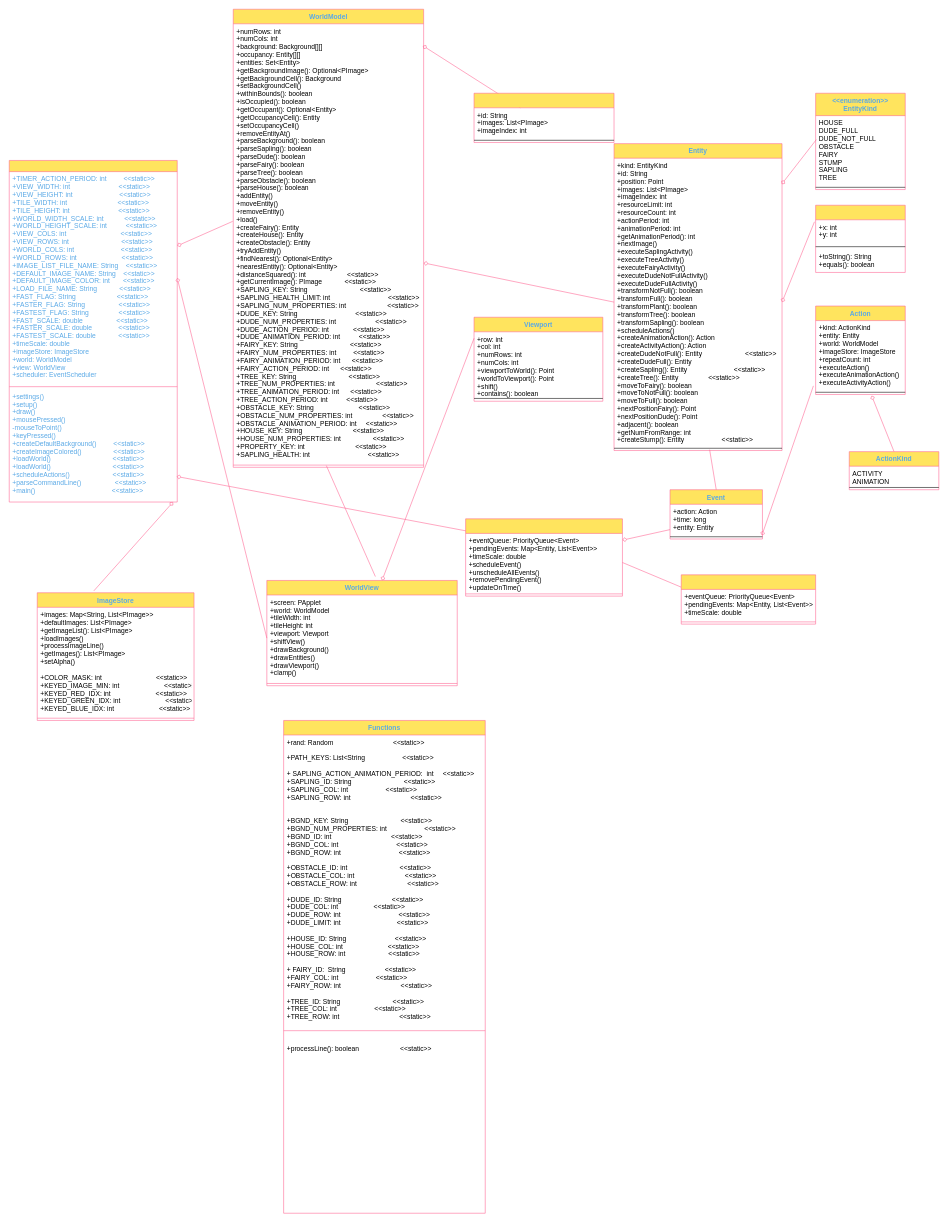
Image size: 948x1222. Some labels were removed from this diagram. Here are the shapes that lost their labels. From the top down, the box of each, then its label:
(473, 93, 614, 143): Background
(815, 205, 905, 272): Point
(9, 160, 177, 502): VirtualWorld
(465, 518, 622, 596): EventScheduler
(681, 574, 816, 624): EventComparator
